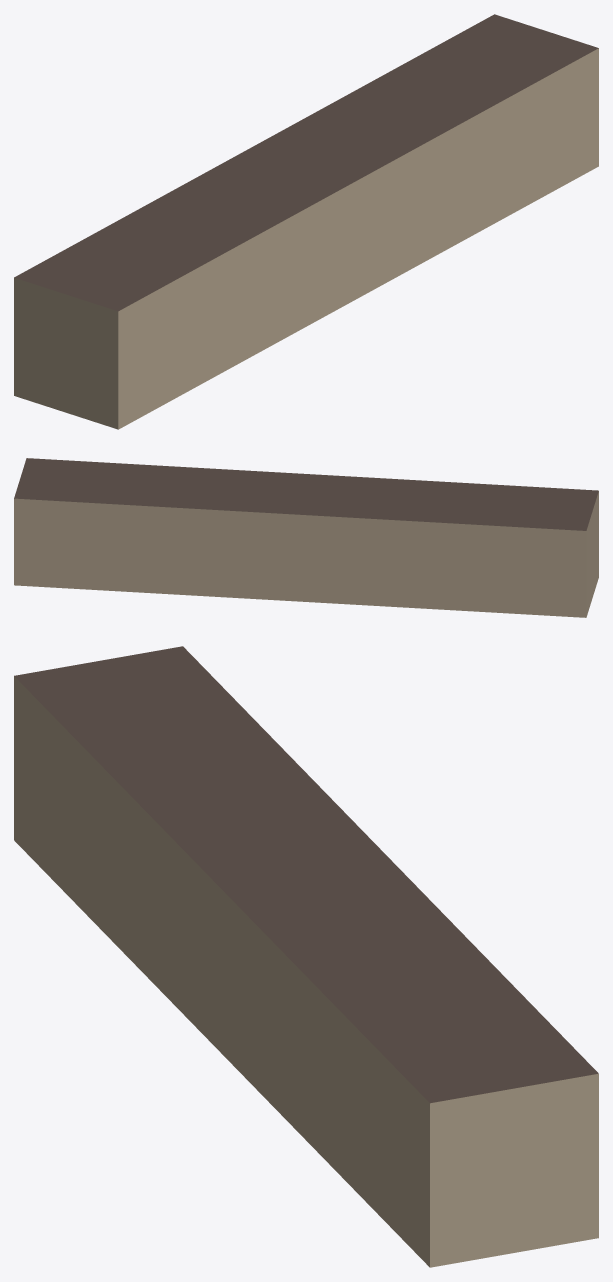
3 renders of one model, top to bottom at view 1: azimuth 30°, elevation 25°; view 2: azimuth 150°, elevation 25°; view 3: azimuth 270°, elevation 25°, orthographic. The views are drawn at different scales.
Visible parts, largest first — view 1: HP-w1544735754; view 2: HP-w1544735754; view 3: HP-w1544735754.
Boxes of the visible parts, x1=… form: HP-w1544735754: x1=14, y1=14, x2=598, y2=429; HP-w1544735754: x1=14, y1=458, x2=598, y2=617; HP-w1544735754: x1=14, y1=646, x2=598, y2=1267.
Size of the model in its own units: 53.65 by 9 by 29.02.
